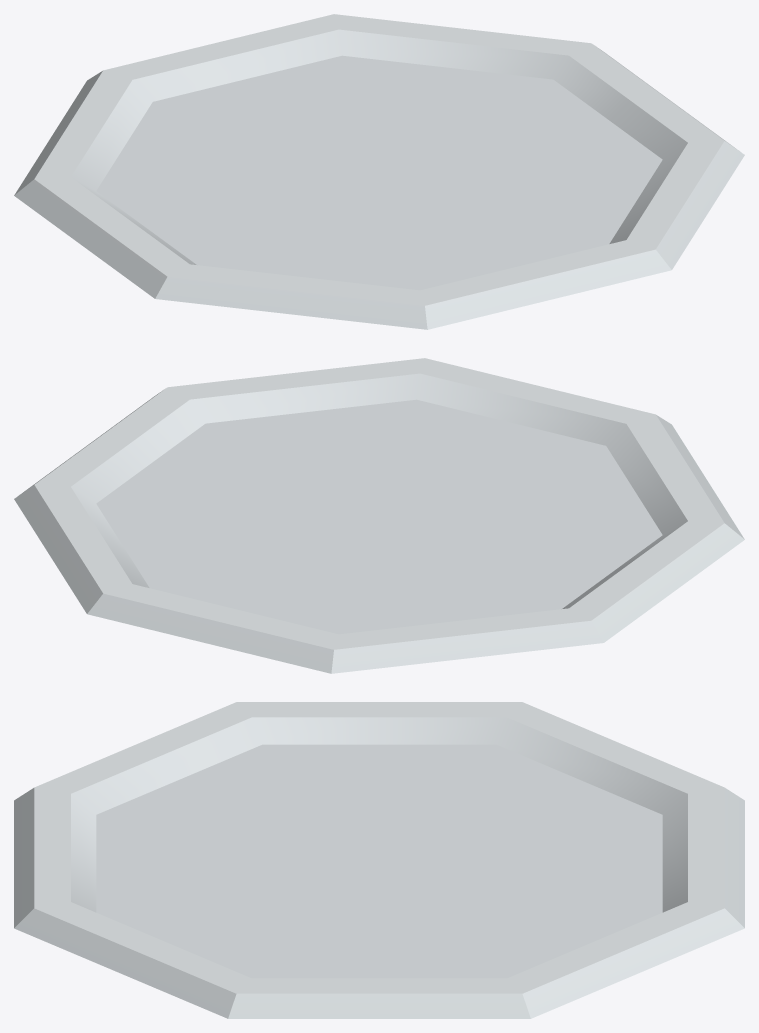
Rendered from catigiriskati.glb.
3 views of the same model, one above another, from view 1: azimuth 30°, elevation 25°; view 2: azimuth 150°, elevation 25°; view 3: azimuth 270°, elevation 25° (orthographic). The views are drawn at different scales.
Visible parts, largest first — view 1: basemodule_A_Cylinder.2721; view 2: basemodule_A_Cylinder.2721; view 3: basemodule_A_Cylinder.2721.
Boxes of the visible parts, box(x1,y1,x2,y2) form: basemodule_A_Cylinder.2721: box(14, 14, 744, 329); basemodule_A_Cylinder.2721: box(14, 358, 744, 673); basemodule_A_Cylinder.2721: box(14, 702, 744, 1018).
Bounding box in the file's own units: 2 × 0.05 × 2.
1 material, 1 textured.
